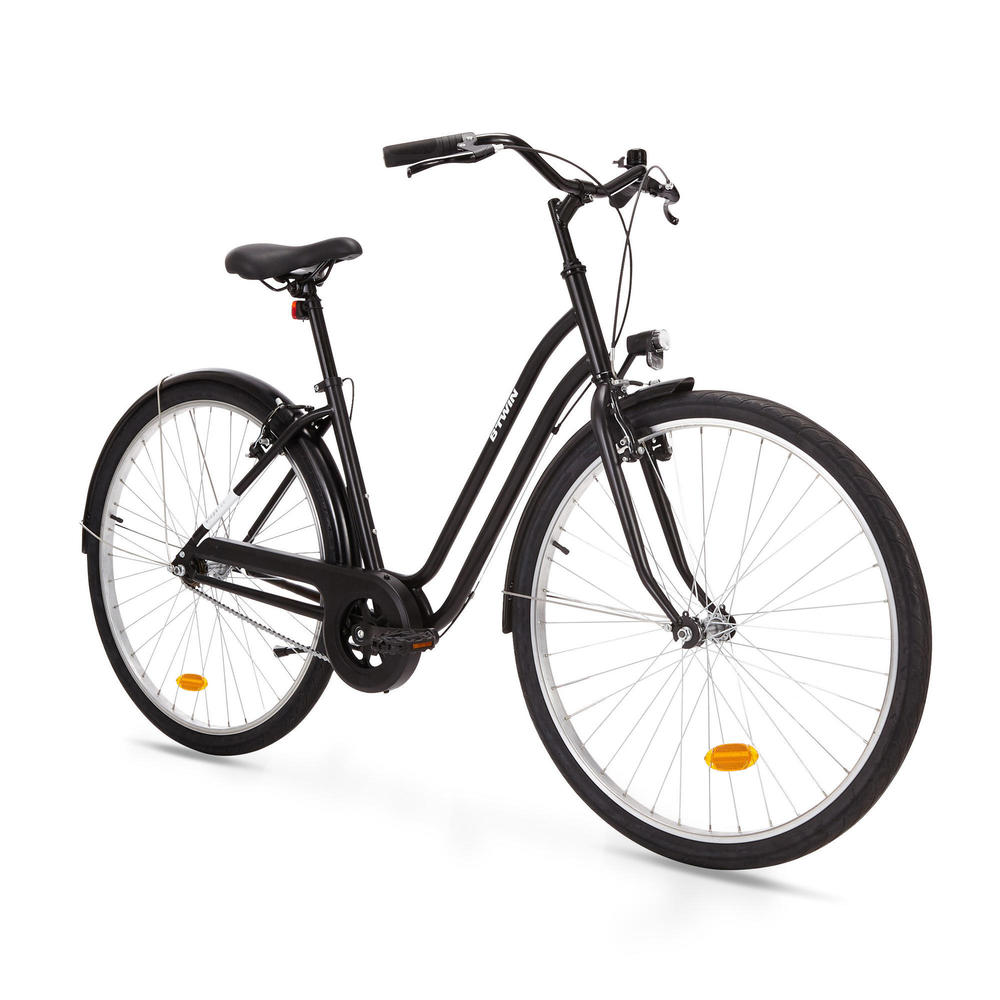UrbanBike: (80, 114, 941, 856)
